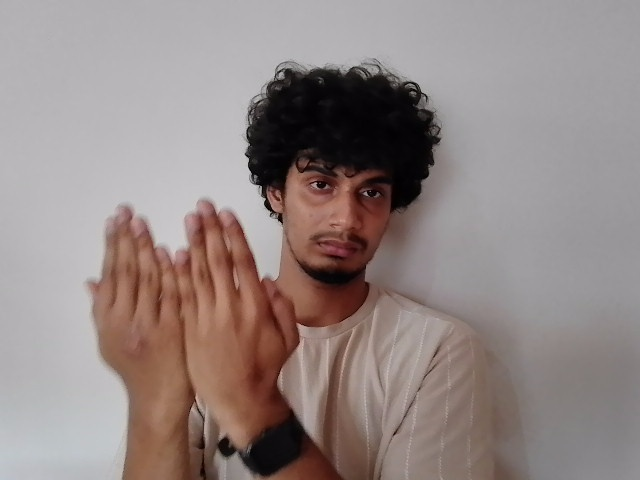school: (80, 198, 303, 401)
